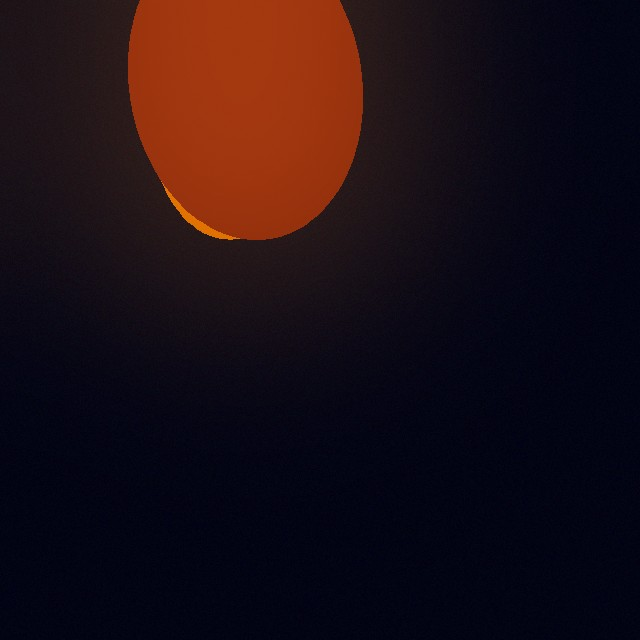fire: (114, 69, 368, 175)
